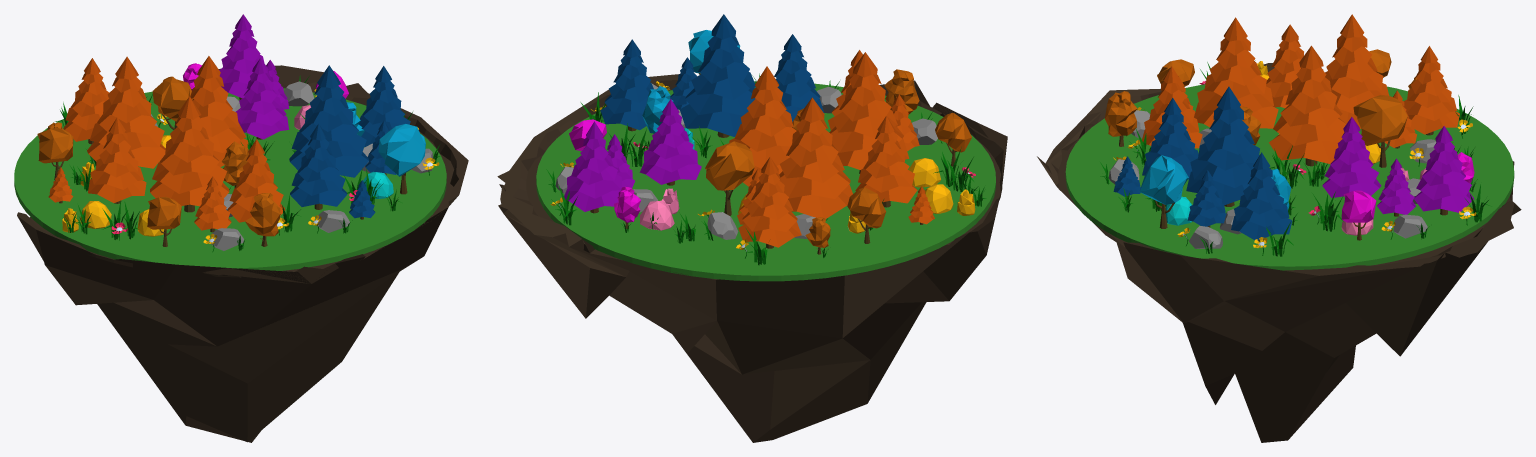
Rendered from community-small.gltf.
3 views of the same model, side by side, from view 1: azimuth 30°, elevation 25°; view 2: azimuth 150°, elevation 25°; view 3: azimuth 270°, elevation 25° (orthographic). The views are drawn at different scales.
Parts seen in each view (by area): view 1: Bedrock.002, AAGround, FirTree3.008, FirTree3, FirTree3.014, FirTree3.017, FirTree3.015, FirTree3.018, FirTree3.009, FirTree3.006, FirTree3.002, FirTree3.011 (+16 smaller); view 2: Bedrock.002, AAGround, FirTree3.014, FirTree3, FirTree3.008, FirTree3.017, FirTree3.002, FirTree3.011, FirTree3.009, FirTree3.015, FirTree3.012, FirTree3.018 (+18 smaller); view 3: Bedrock.002, AAGround, FirTree3.017, FirTree3.014, FirTree3.008, FirTree3, FirTree3.012, FirTree3.011, FirTree3.002, FirTree3.009, Tree2Group2, FirTree3.018 (+13 smaller).
Boxes of the visible parts, <box> form: Bedrock.002: <box>17,65,468,442</box>; AAGround: <box>14,88,446,270</box>; FirTree3.008: <box>150,96,229,212</box>; FirTree3: <box>87,56,165,168</box>; FirTree3.014: <box>289,65,368,177</box>; FirTree3.017: <box>179,56,248,167</box>; FirTree3.015: <box>88,117,146,203</box>; FirTree3.018: <box>290,123,347,209</box>; FirTree3.009: <box>235,58,288,139</box>; FirTree3.006: <box>228,139,285,222</box>; FirTree3.002: <box>63,58,109,144</box>; FirTree3.011: <box>219,14,264,99</box>; Bedrock.002: <box>497,73,1007,442</box>; AAGround: <box>536,81,995,281</box>; FirTree3.014: <box>679,14,755,137</box>; FirTree3: <box>779,97,852,218</box>; FirTree3.008: <box>829,52,909,173</box>; FirTree3.017: <box>729,66,796,186</box>; FirTree3.002: <box>738,157,801,248</box>; FirTree3.011: <box>564,121,621,213</box>; FirTree3.009: <box>639,99,701,185</box>; FirTree3.015: <box>855,115,917,207</box>; FirTree3.012: <box>600,39,653,131</box>; FirTree3.018: <box>774,34,824,121</box>; Bedrock.002: <box>1037,63,1521,442</box>; AAGround: <box>1065,84,1514,270</box>; FirTree3.017: <box>1269,45,1346,166</box>; FirTree3.014: <box>1186,86,1259,206</box>; FirTree3.008: <box>1194,17,1278,128</box>; FirTree3: <box>1325,14,1389,128</box>; FirTree3.012: <box>1231,152,1292,241</box>; FirTree3.011: <box>1414,126,1473,215</box>; FirTree3.002: <box>1403,46,1459,135</box>; FirTree3.009: <box>1322,117,1381,197</box>; Tree2Group2: <box>1353,95,1407,167</box>; FirTree3.018: <box>1142,98,1198,179</box>.
Bounding box in the file's own units: 1.83 × 1.59 × 1.8.
